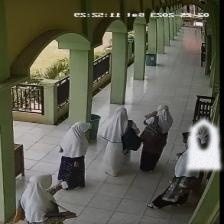Mukena: (187, 117, 220, 170)
